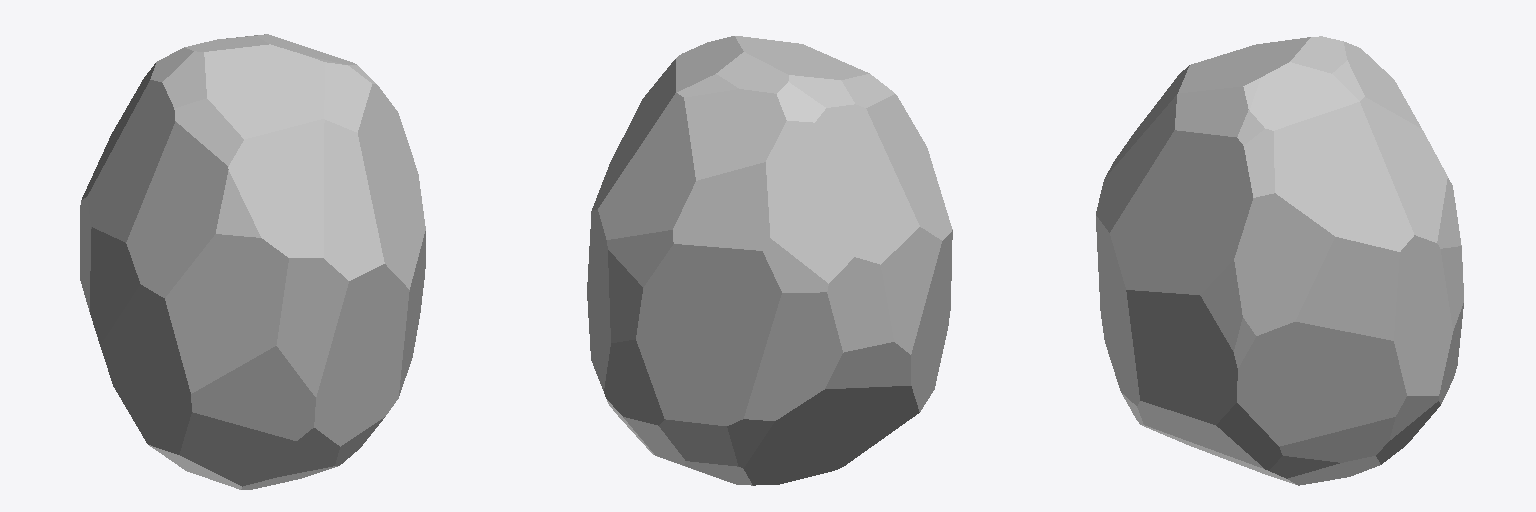
The model's file is smallStone4.obj.
The picture shows the model from 3 angles: view 1: azimuth 30°, elevation 25°; view 2: azimuth 150°, elevation 25°; view 3: azimuth 270°, elevation 25°; orthographic projection.
Parts seen in each view (by area): view 1: Icosphere_007; view 2: Icosphere_007; view 3: Icosphere_007.
Boxes of the visible parts, x1,y1,x2,y2 form: Icosphere_007: [80, 34, 425, 489]; Icosphere_007: [587, 36, 952, 485]; Icosphere_007: [1096, 36, 1463, 485].
Size of the model in its own units: 40.04 by 52.04 by 42.77.